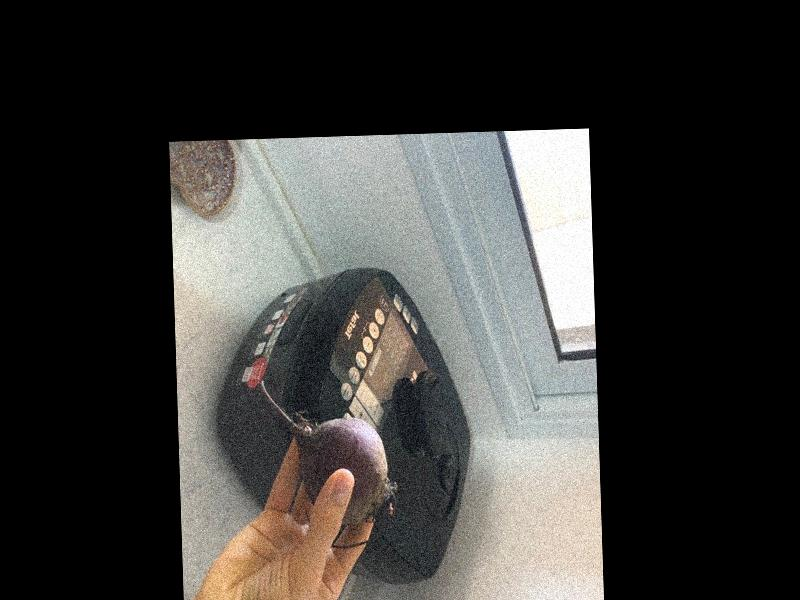Beet: (258, 376, 399, 549)
